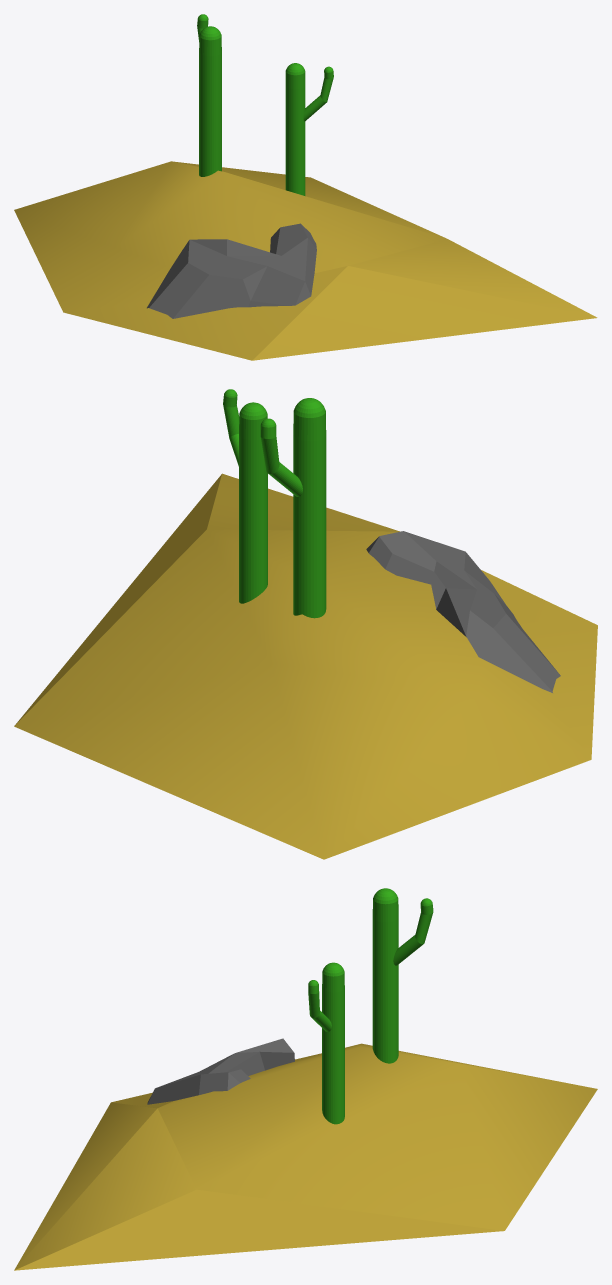
File: desert_ob_02.fbx
3 renders of one model, top to bottom at view 1: azimuth 30°, elevation 25°; view 2: azimuth 150°, elevation 25°; view 3: azimuth 270°, elevation 25°, orthographic. The views are drawn at different scales.
Parts seen in each view (by area): view 1: Icosphere, Cube, Cylinder, Cylinder.001; view 2: Icosphere, Cube, Cylinder, Cylinder.001; view 3: Icosphere, Cylinder, Cylinder.001, Cube.
Boxes of the visible parts, bbox=[...] form: Icosphere: bbox=[14, 161, 597, 360]; Cube: bbox=[147, 223, 316, 318]; Cylinder: bbox=[197, 14, 221, 176]; Cylinder.001: bbox=[285, 63, 333, 195]; Icosphere: bbox=[14, 473, 597, 859]; Cube: bbox=[366, 531, 560, 692]; Cylinder: bbox=[260, 398, 326, 618]; Cylinder.001: bbox=[223, 389, 267, 603]; Icosphere: bbox=[14, 1043, 597, 1270]; Cylinder: bbox=[372, 888, 433, 1063]; Cylinder.001: bbox=[308, 962, 344, 1124]; Cube: bbox=[147, 1038, 294, 1104].
Size of the model in its own units: 2910 by 1610 by 3272.
